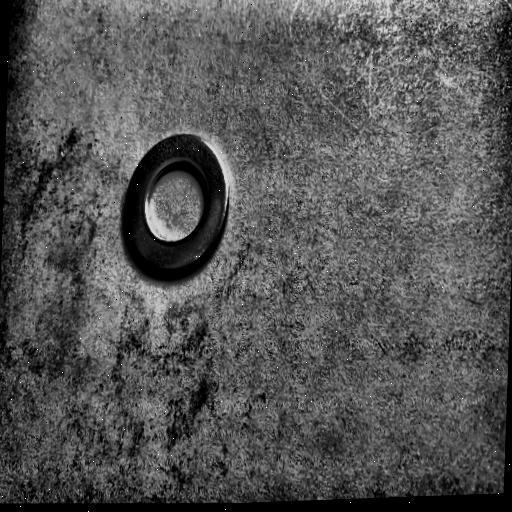Washer: (120, 132, 230, 282)
